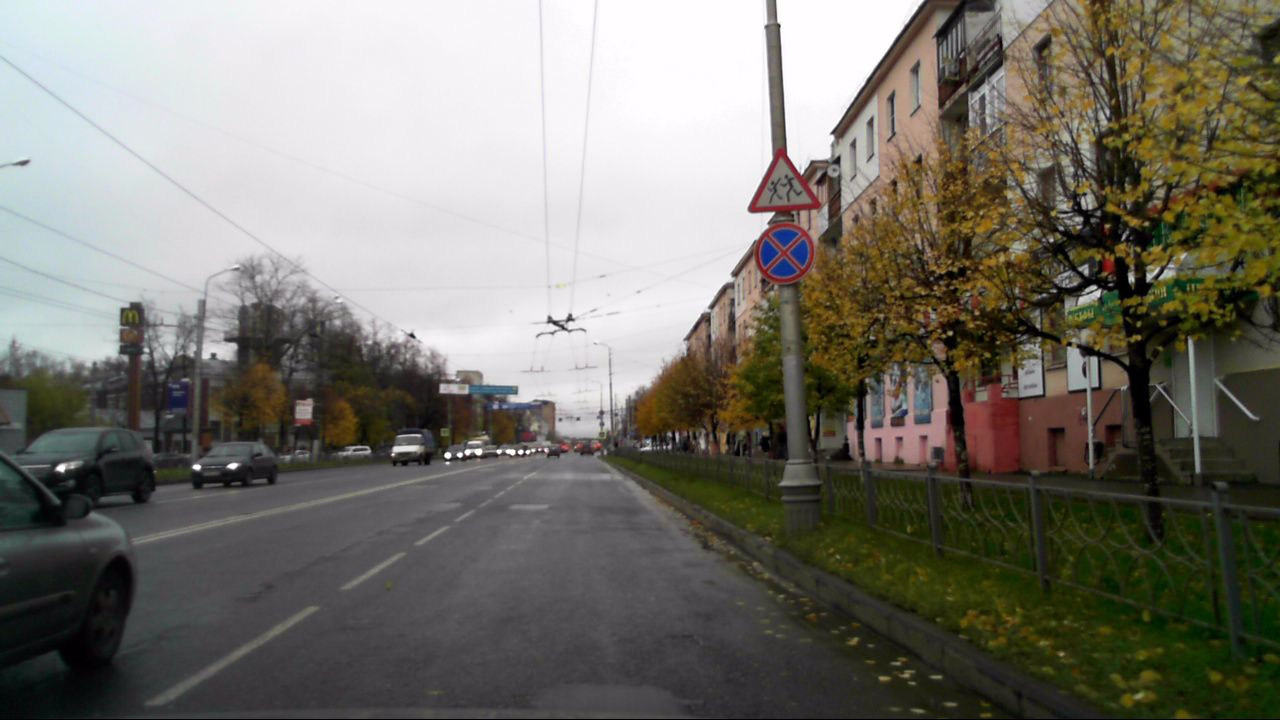No Parking: (754, 222, 813, 284)
